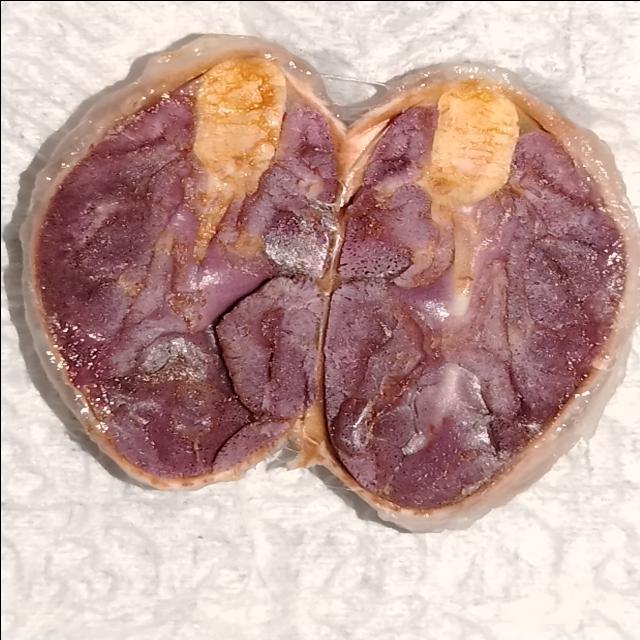Forastero: (27, 56, 345, 476), (313, 68, 613, 506)
